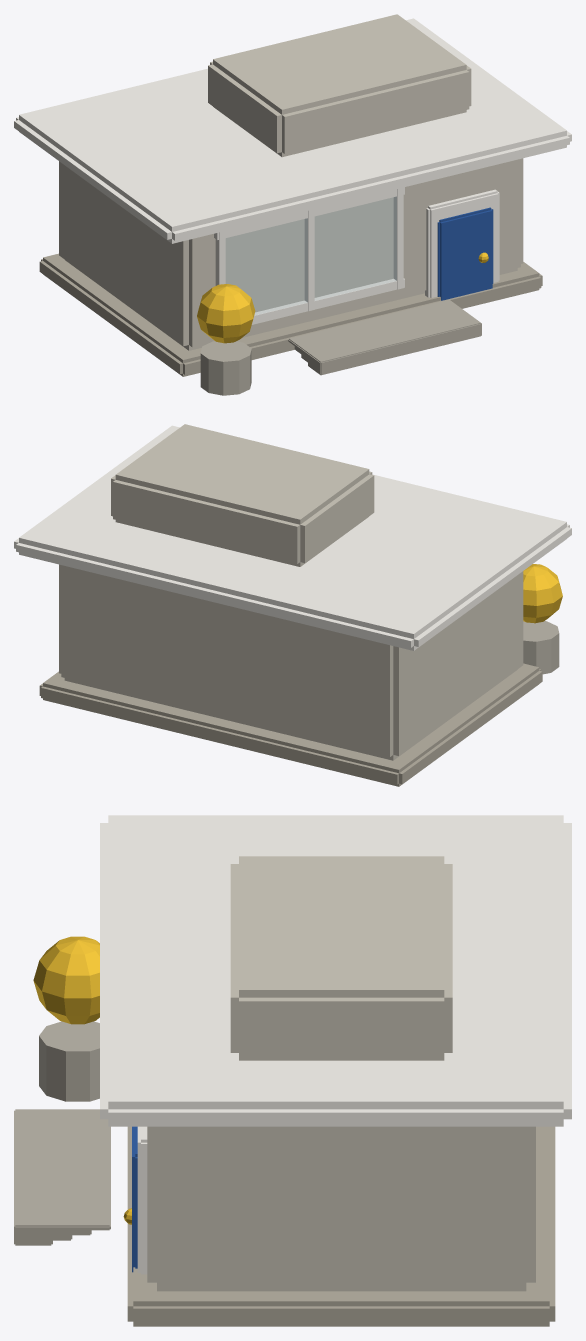
The model's file is museum.glb.
3 renders of one model, top to bottom at view 1: azimuth 30°, elevation 25°; view 2: azimuth 150°, elevation 25°; view 3: azimuth 270°, elevation 25°, orthographic. The views are drawn at different scales.
Parts seen in each view (by area): view 1: museum; view 2: museum; view 3: museum.
Part boxes in pixels (x1,y1,x2,y2): museum: (14,14,571,395); museum: (14,424,571,786); museum: (14,815,571,1326).
Size of the model in its own units: 2.5 by 1.23 by 2.01.
